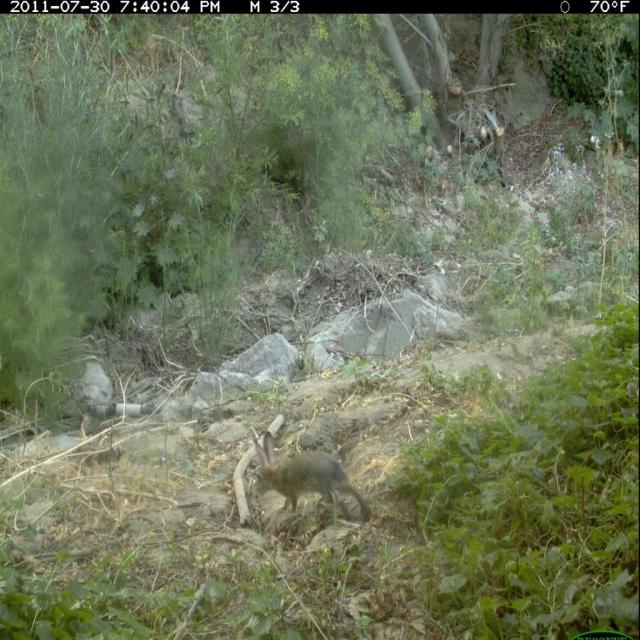rabbit: (245, 425, 379, 531)
